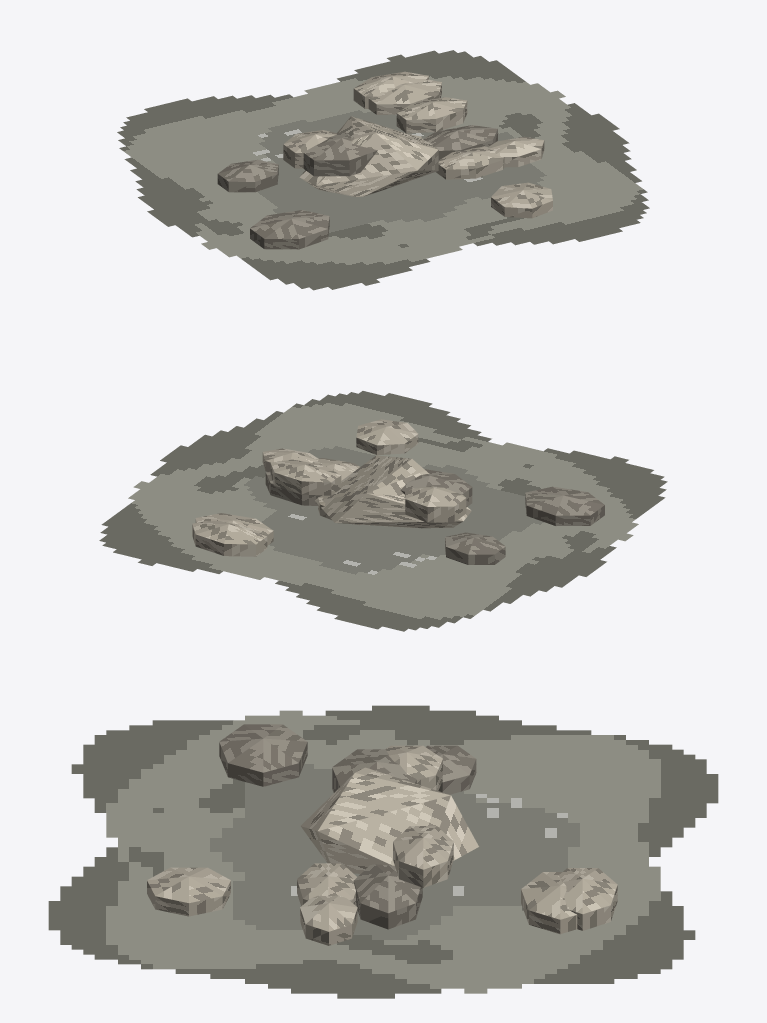
File: fd_gibs_invertebrate__3.glb
3 renders of one model, top to bottom at view 1: azimuth 30°, elevation 25°; view 2: azimuth 150°, elevation 25°; view 3: azimuth 270°, elevation 25°, orthographic. The views are drawn at different scales.
Visible parts, largest first — view 1: block_liquid, block_goo (×11), block_heap; view 2: block_liquid, block_goo (×10), block_heap; view 3: block_liquid, block_goo (×11), block_heap.
Part boxes in pixels (x1=…): block_liquid: x1=117, y1=50, x2=649, y2=290; block_goo (×11): x1=217, y1=71, x2=552, y2=249; block_heap: x1=299, y1=116, x2=438, y2=196; block_liquid: x1=99, y1=391, x2=667, y2=631; block_goo (×10): x1=192, y1=419, x2=604, y2=564; block_heap: x1=315, y1=455, x2=471, y2=528; block_liquid: x1=48, y1=705, x2=718, y2=998; block_goo (×11): x1=147, y1=724, x2=617, y2=945; block_heap: x1=301, y1=767, x2=478, y2=873.
Size of the model in its own units: 1 by 0.1263 by 1.
Materials: 2 (2 with a texture image).
